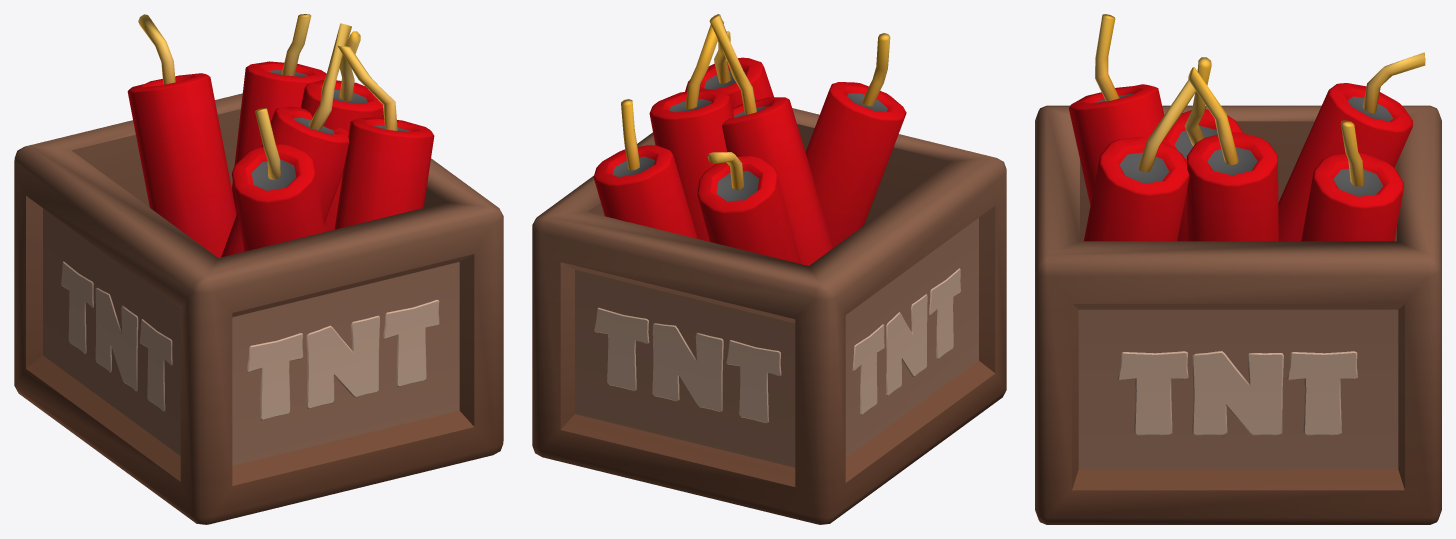
The model's file is TNT_Crate.fbx.
3 renders of one model, left to right at view 1: azimuth 30°, elevation 25°; view 2: azimuth 150°, elevation 25°; view 3: azimuth 270°, elevation 25°, orthographic. The views are drawn at different scales.
Visible parts, largest first — view 1: Cylinder.003; view 2: Cylinder.003; view 3: Cylinder.003.
Part boxes in pixels (bbox=[...]): Cylinder.003: bbox=[14, 14, 503, 524]; Cylinder.003: bbox=[532, 14, 1006, 524]; Cylinder.003: bbox=[1035, 14, 1441, 524].
Size of the model in its own units: 313 by 382 by 329.
